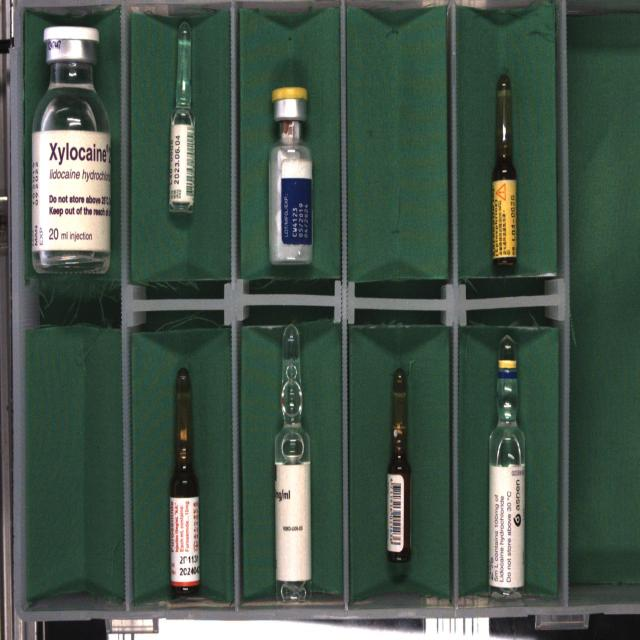Vials: (31, 27, 110, 273), (269, 87, 312, 264)
